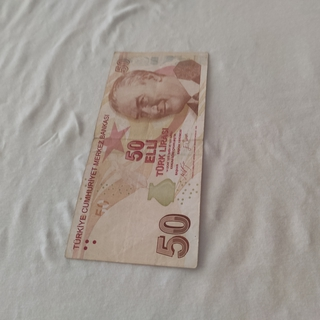50TLFront: (63, 50, 209, 269)
